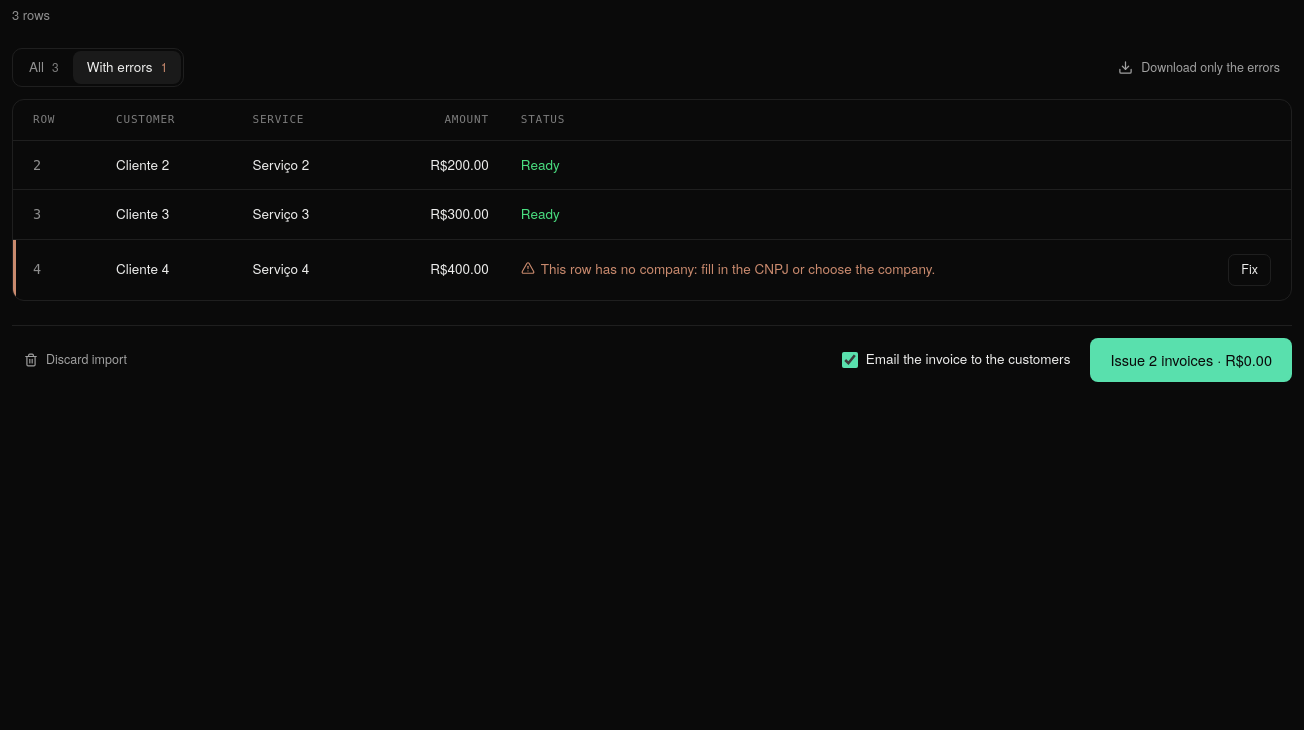
Scenario: ImportReview › keeps the editor open and says so when the fix is still wrong
This screenshot has width=1304, height=730.
Click the button "Fix" at [1250, 270], box [1228,254,1271,286]
(page scrolled)
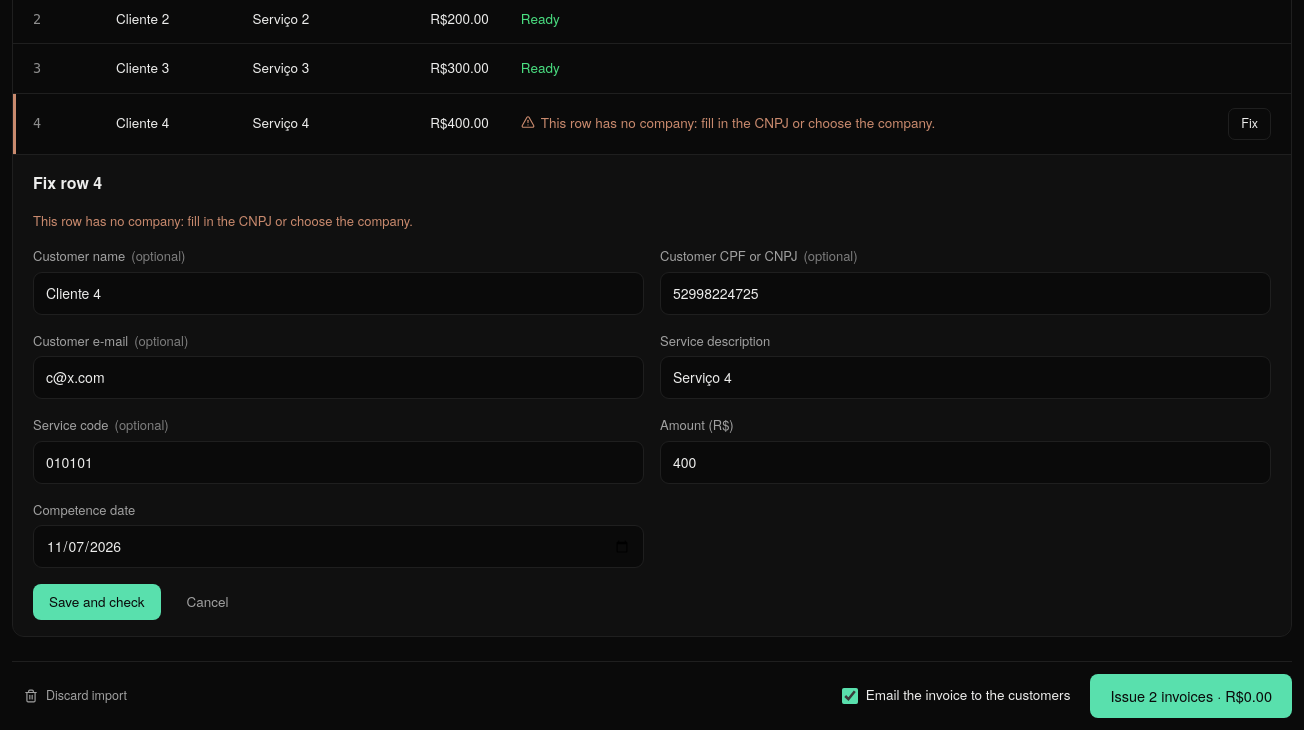
Click the button "Save and check" at [97, 602], box [33,584,161,620]
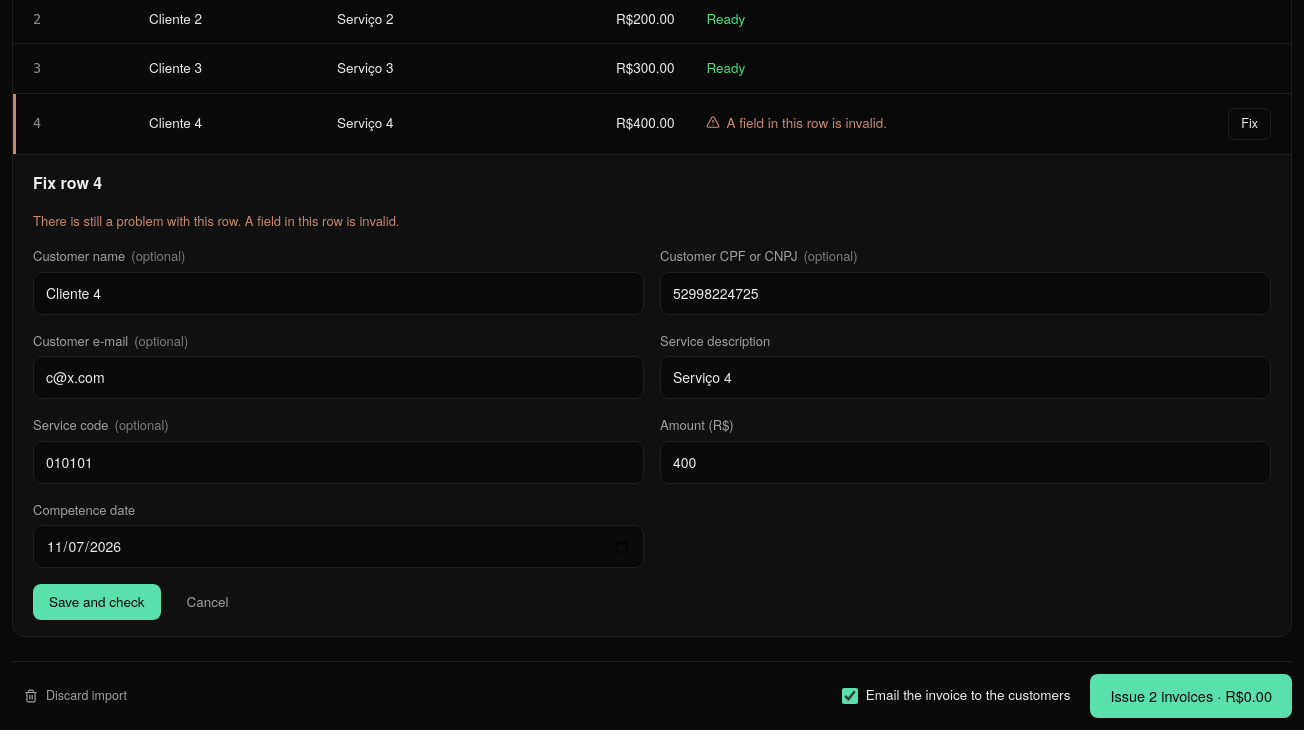
Expected: the field labelled "Customer e-mail(optional)" is shown, [33,356,644,399]
Expected: the text "There is still a problem with this row. A field in this row is invalid." is shown, [33,210,400,230]
